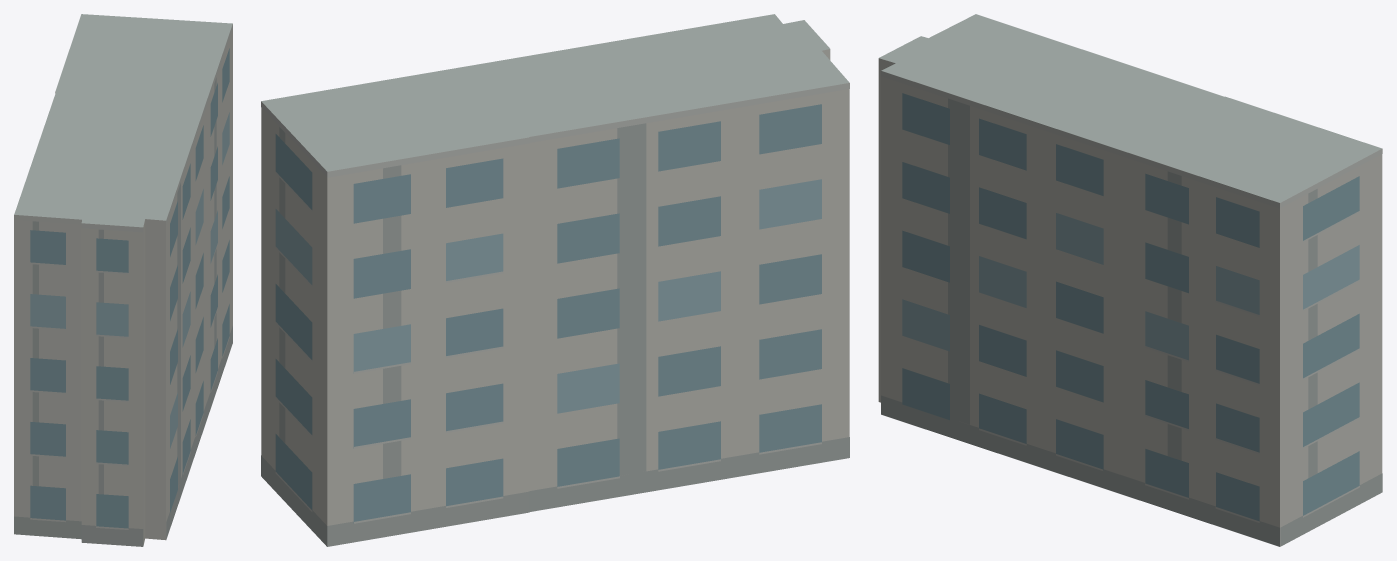
File: survey-upis-32583913.glb
3 views of the same model, side by side, from view 1: azimuth 30°, elevation 25°; view 2: azimuth 150°, elevation 25°; view 3: azimuth 270°, elevation 25° (orthographic). The views are drawn at different scales.
Parts seen in each view (by area): view 1: survey-upis-32583913.tmp; view 2: survey-upis-32583913.tmp; view 3: survey-upis-32583913.tmp.
Boxes of the visible parts, box(x1,y1,x2,y2) form: survey-upis-32583913.tmp: box(14, 14, 232, 546); survey-upis-32583913.tmp: box(261, 14, 849, 546); survey-upis-32583913.tmp: box(878, 14, 1382, 546).
Size of the model in its own units: 17.99 by 15.25 by 20.26.
